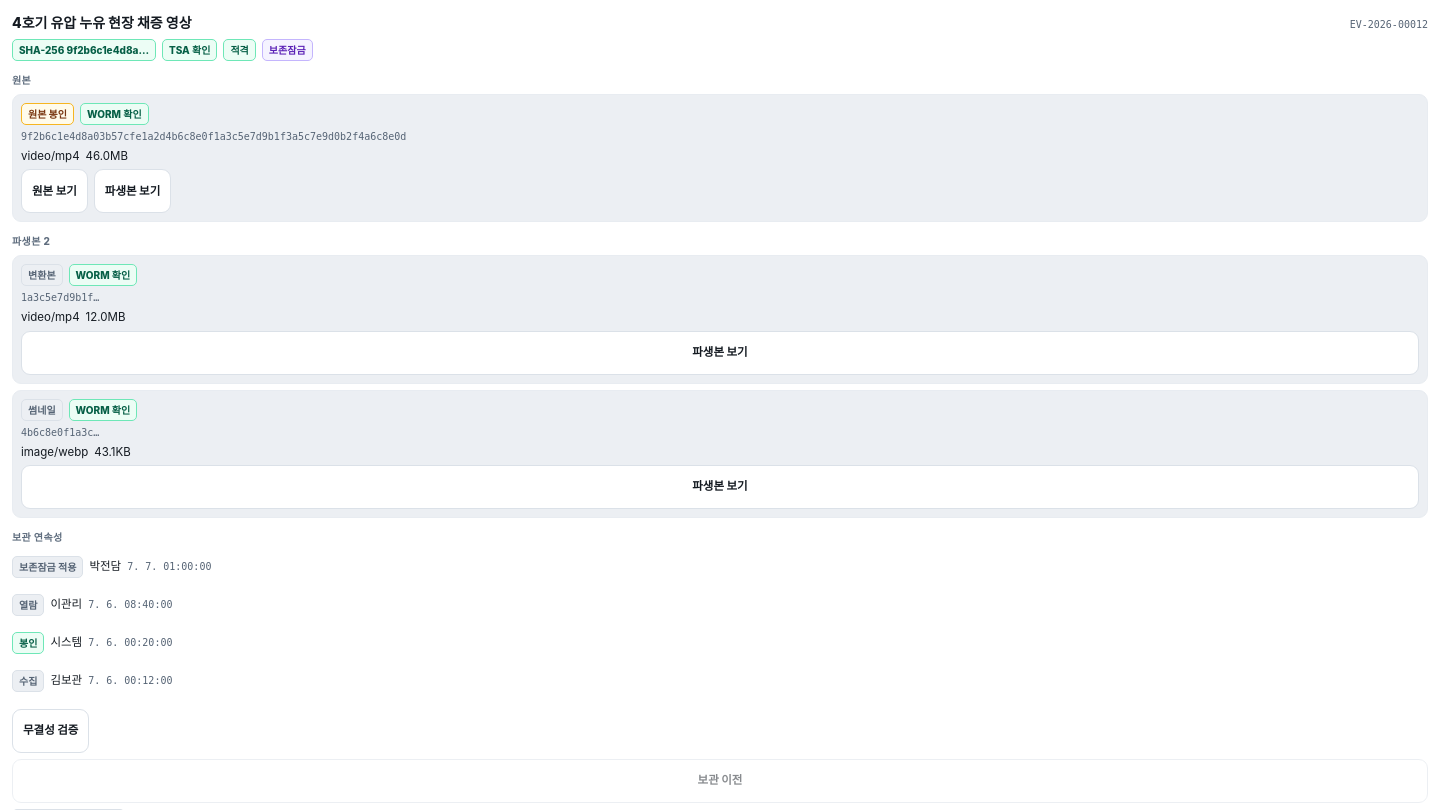
Test: EvidenceCard verify affordance › reports 검증 대기 when no real verify path applies
Step 1. Click the button "무결성 검증" → [51, 731], box [12, 709, 89, 753]
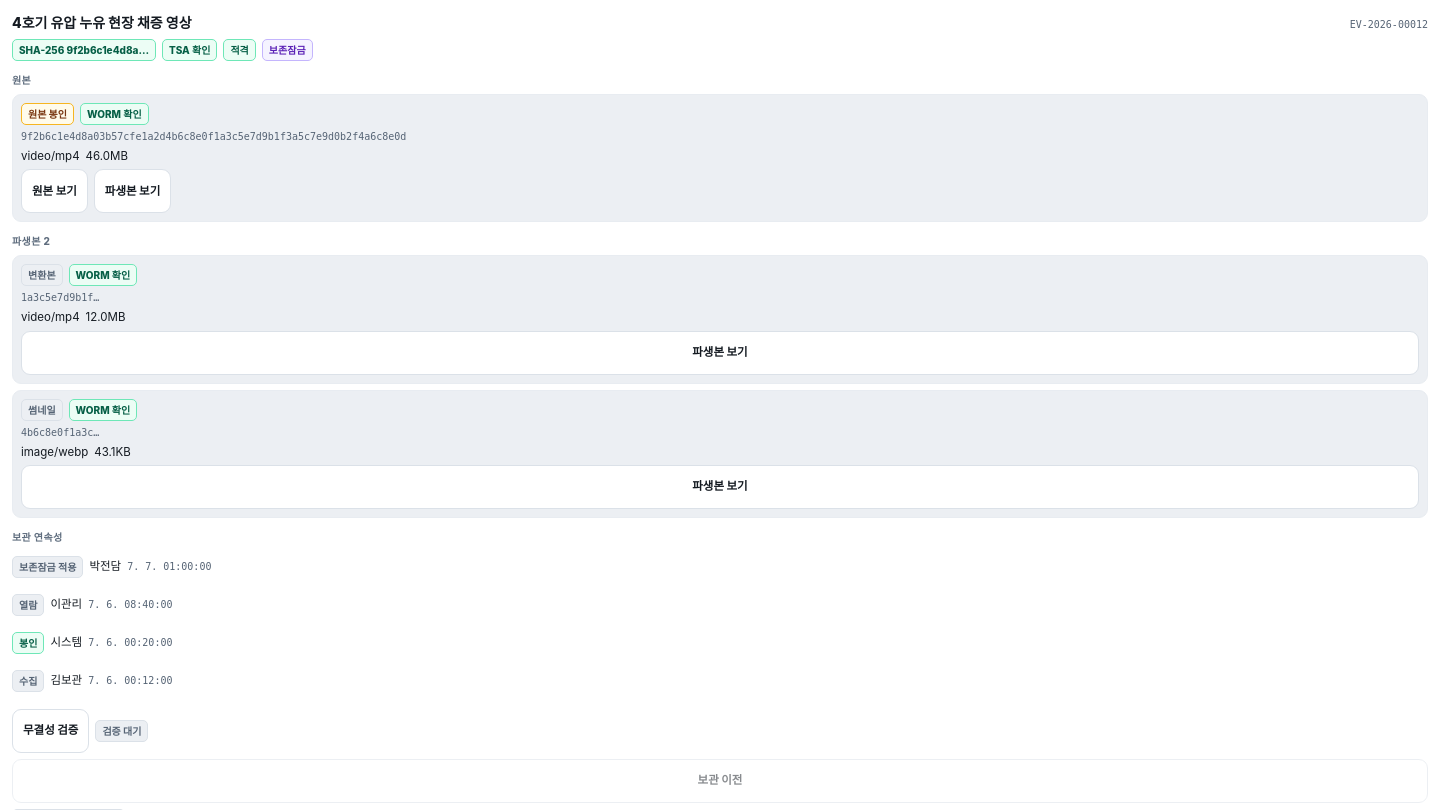
Check: the text "검증 대기" is shown, box [95, 720, 148, 742]
